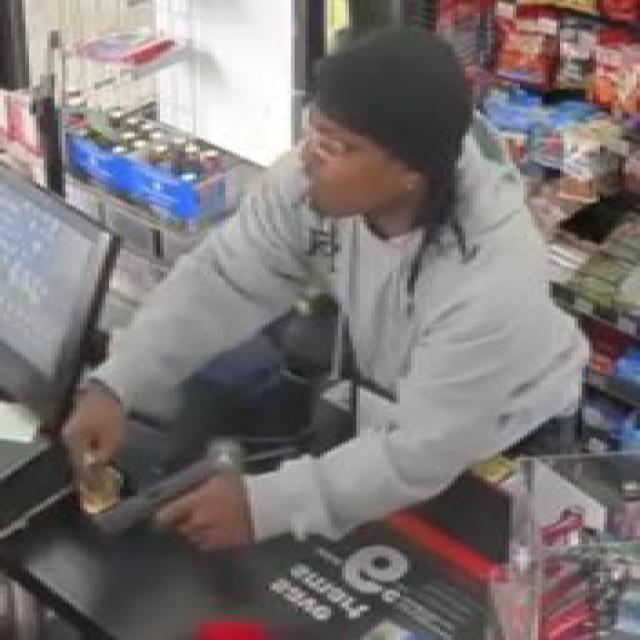Gun: (94, 452, 251, 546)
